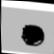correct: (19, 22, 46, 50)
